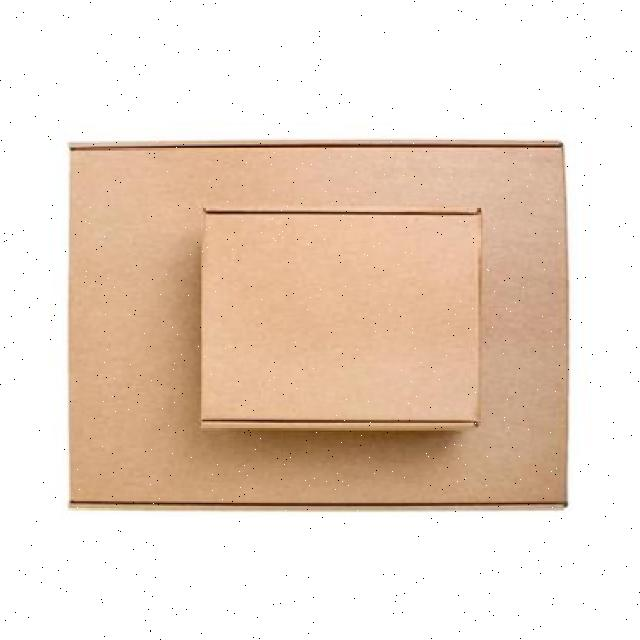normal: (63, 134, 574, 515), (191, 212, 486, 450)
